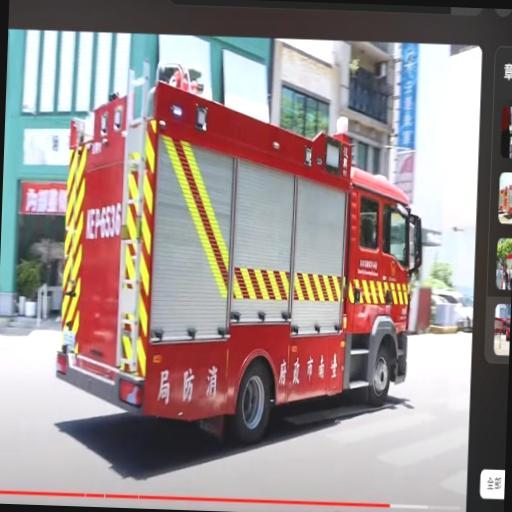fire truck: (55, 62, 420, 444)
